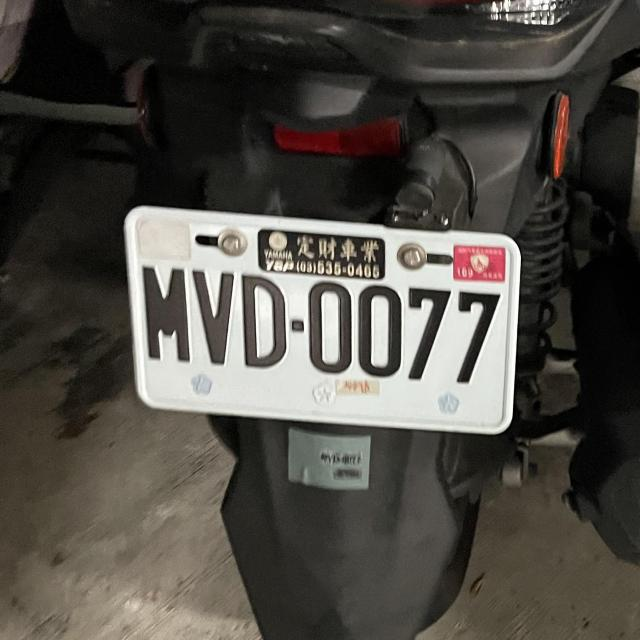W: (110, 197, 524, 442)
